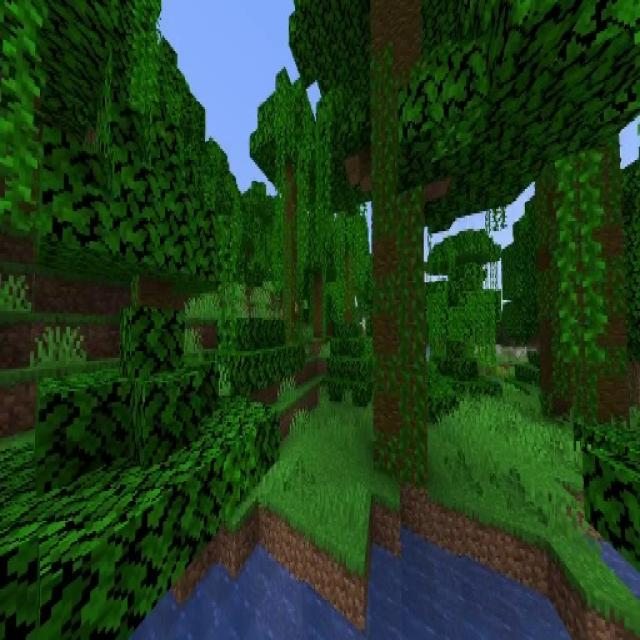jungle: (251, 67, 321, 339)
jungle_log: (370, 0, 427, 493), (576, 134, 631, 439)
